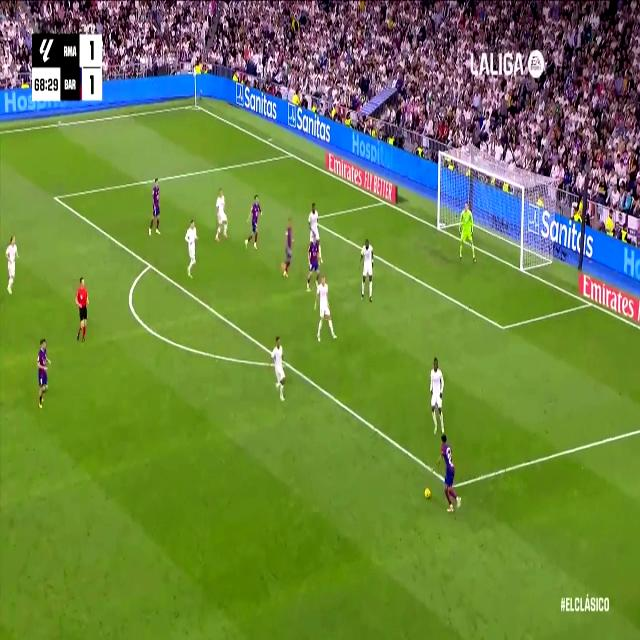bigarea_top_inner: (50, 186, 60, 207)
bigarea_top_outter: (286, 145, 295, 161)
corner: (190, 98, 202, 112)
smallarea_bottom_inner: (498, 316, 508, 338)
smallarea_bottom_outter: (586, 296, 594, 310)
top_arc_area_intersection: (145, 255, 155, 274)
